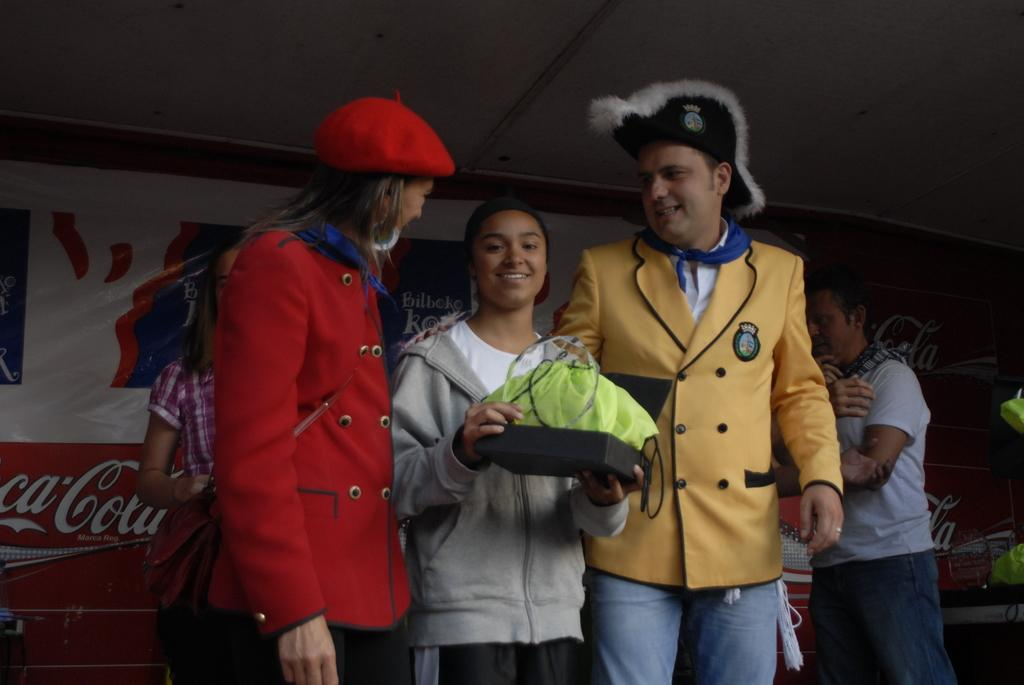Hat: (590, 82, 761, 218)
